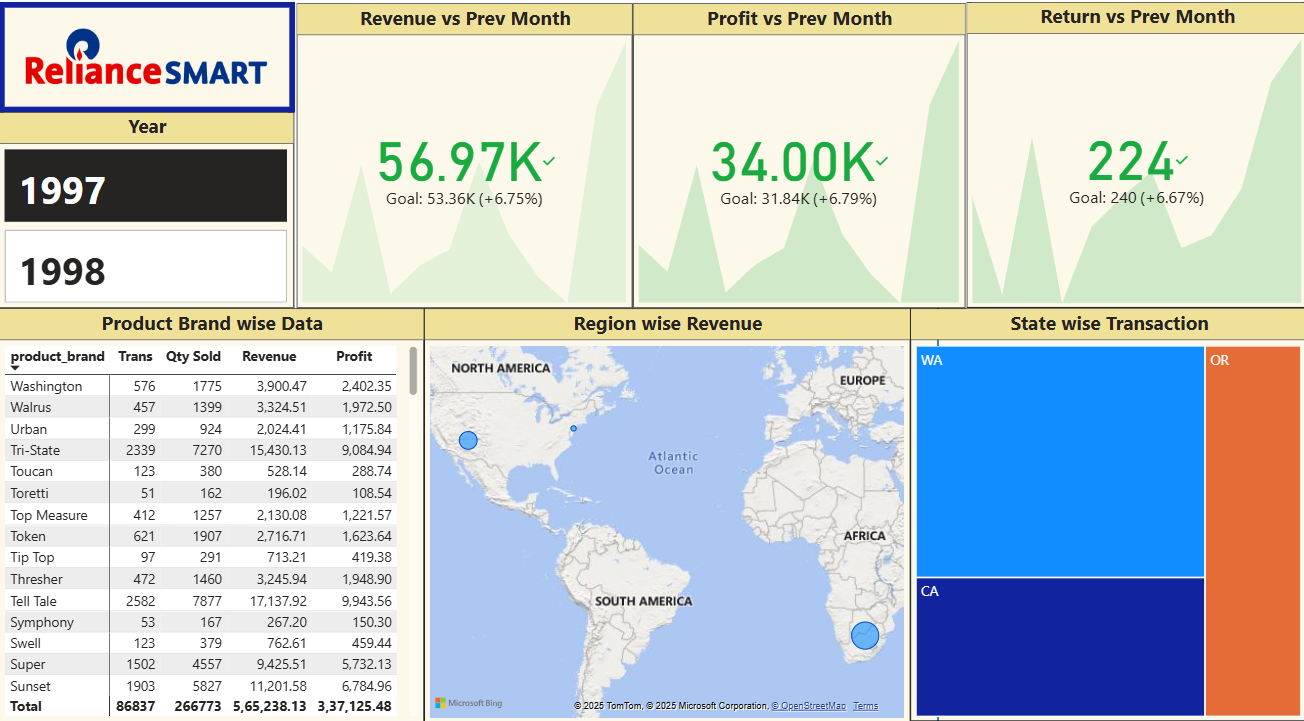

Layout of this report page (visuals, bound fields, positions):
{"tool":"powerbi","page":{"name":"Page 1","canvas":[1280,720],"ordinal":0},"visuals":[{"type":"pivotTable","title":"Product Brand wise Data","fields":{"Rows":["D_Products.product_brand"],"Values":["Measure.M_total_transaction","Measure.M_Quantity_Sold","Measure.M_Total_Revenue","Measure.M_total_Profit"]},"box":[0,314.3,415.8,404.8],"z":0},{"type":"image","box":[0,14.7,289.8,107.6],"z":1000},{"type":"map","title":"Region wise Revenue ","fields":{"Size":["Measure.M_Total_Revenue"],"Category":["D_Regions.sales_region"]},"box":[415.8,314.3,475.7,406],"z":2000},{"type":"shape","box":[891.5,314.2,54.3,404.6],"z":5000},{"type":"treemap","title":"State wise Transaction ","fields":{"Group":["D_Stores.store_state"],"Values":["Measure.M_total_transaction"]},"box":[891.4,314.3,388.6,404.3],"z":6000},{"type":"kpi","title":"Revenue vs Prev Month","fields":{"Indicator":["Measure.M_Total_Revenue"],"TrendLine":["D_Calendar.Start of Month"],"Goal":["Measure.M_Previous_Month_Revenue"]},"box":[291,15.9,328.9,298.4],"z":7000},{"type":"kpi","title":"Profit vs Prev Month","fields":{"TrendLine":["D_Calendar.Start of Month"],"Indicator":["Measure.M_total_Profit"],"Goal":["Measure.M_Previous_Month_Profit"]},"box":[620,15.9,325.3,298.4],"z":8000},{"type":"kpi","title":"Return vs Prev Month","fields":{"TrendLine":["D_Calendar.Start of Month"],"Indicator":["Measure.M_Total_Returns"],"Goal":["Measure.M_Previous_Month_Return"]},"box":[946.5,14.7,333.8,299.6],"z":9000},{"type":"advancedSlicerVisual","fields":{"Values":["D_Calendar.Start of Month.Variation.Date Hierarchy.Year"]},"box":[0,122.3,288.6,192],"z":10000}]}

Visuals, with their boxes in screenshot pixels (x1, y1, x2, y2), scaled from the page's 1280x720 canvas onto the 1304x721 screenshot:
"Product Brand wise Data" pivotTable: BBox(0, 315, 424, 720)
image: BBox(0, 15, 295, 122)
"Region wise Revenue " map: BBox(424, 315, 908, 720)
shape: BBox(908, 315, 964, 720)
"State wise Transaction " treemap: BBox(908, 315, 1303, 720)
"Revenue vs Prev Month" kpi: BBox(296, 16, 632, 315)
"Profit vs Prev Month" kpi: BBox(632, 16, 963, 315)
"Return vs Prev Month" kpi: BBox(964, 15, 1303, 315)
advancedSlicerVisual - D_Calendar.Start of Month.Variation.Date Hierarchy.Year: BBox(0, 122, 294, 315)
